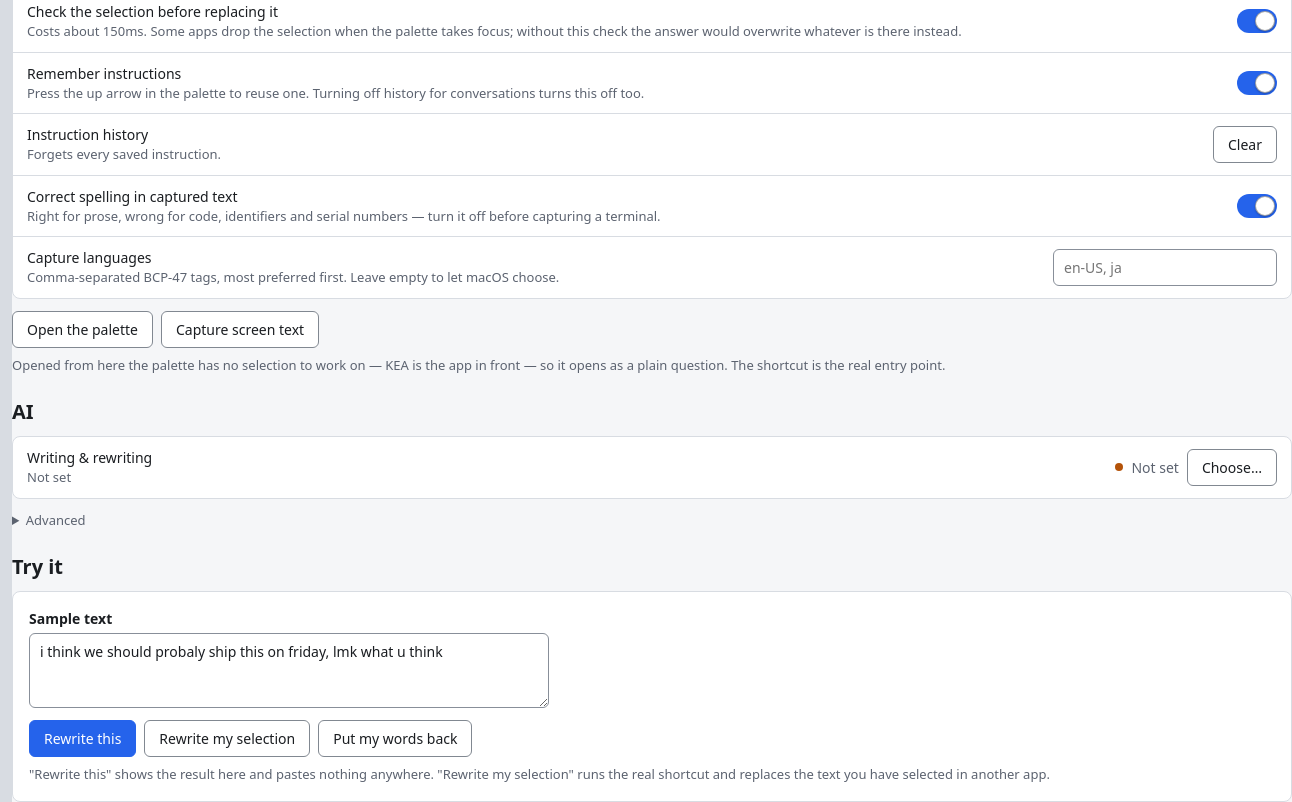
RewritePage › confirms when the text went back
(page scrolled)
What coordinates should you click on to do the following:
click the button "Put my words back"
I would click on:
 (395, 739)
Its box is [318,720,472,757].
(page scrolled)
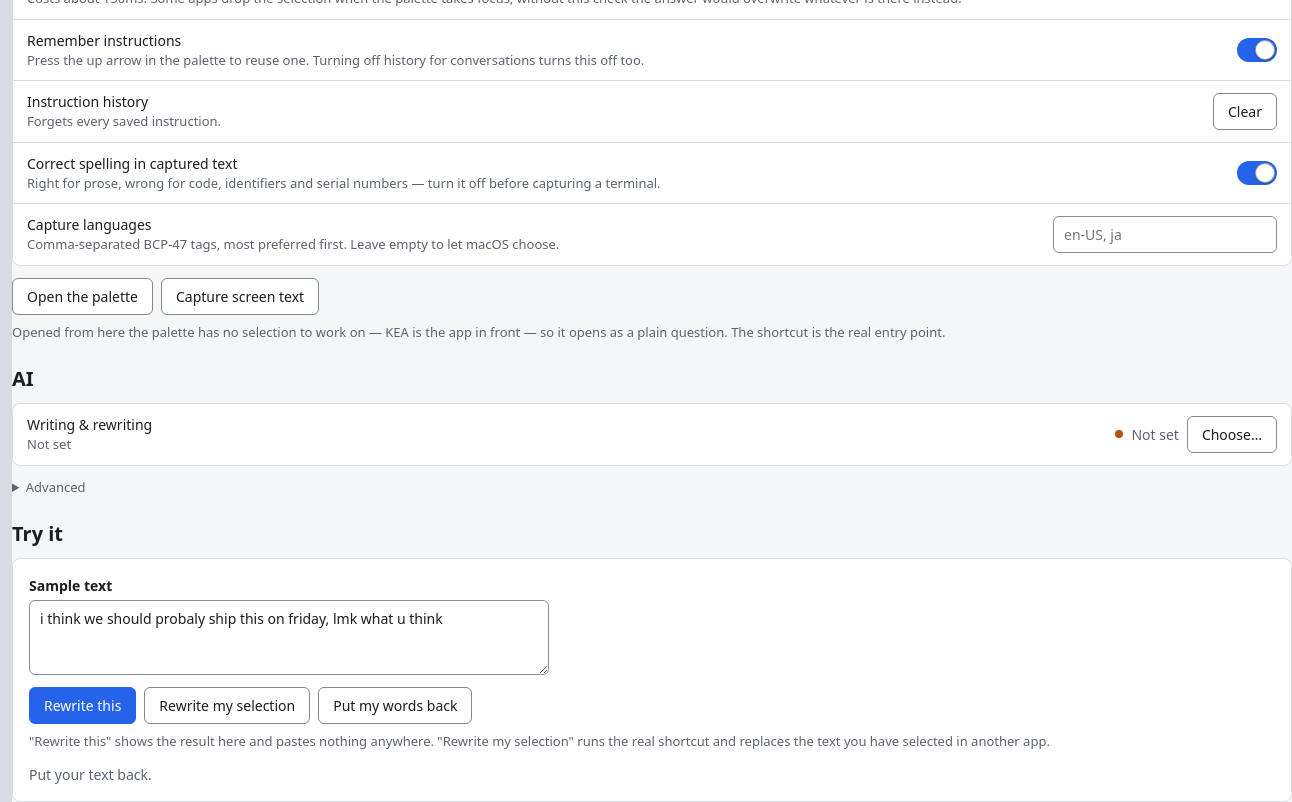
Check: the text "Put your text back." is shown, box [29,765,152,784]
